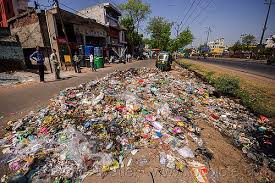garbage: (67, 87, 212, 138), (9, 117, 120, 183), (112, 70, 194, 151), (217, 102, 247, 132)
